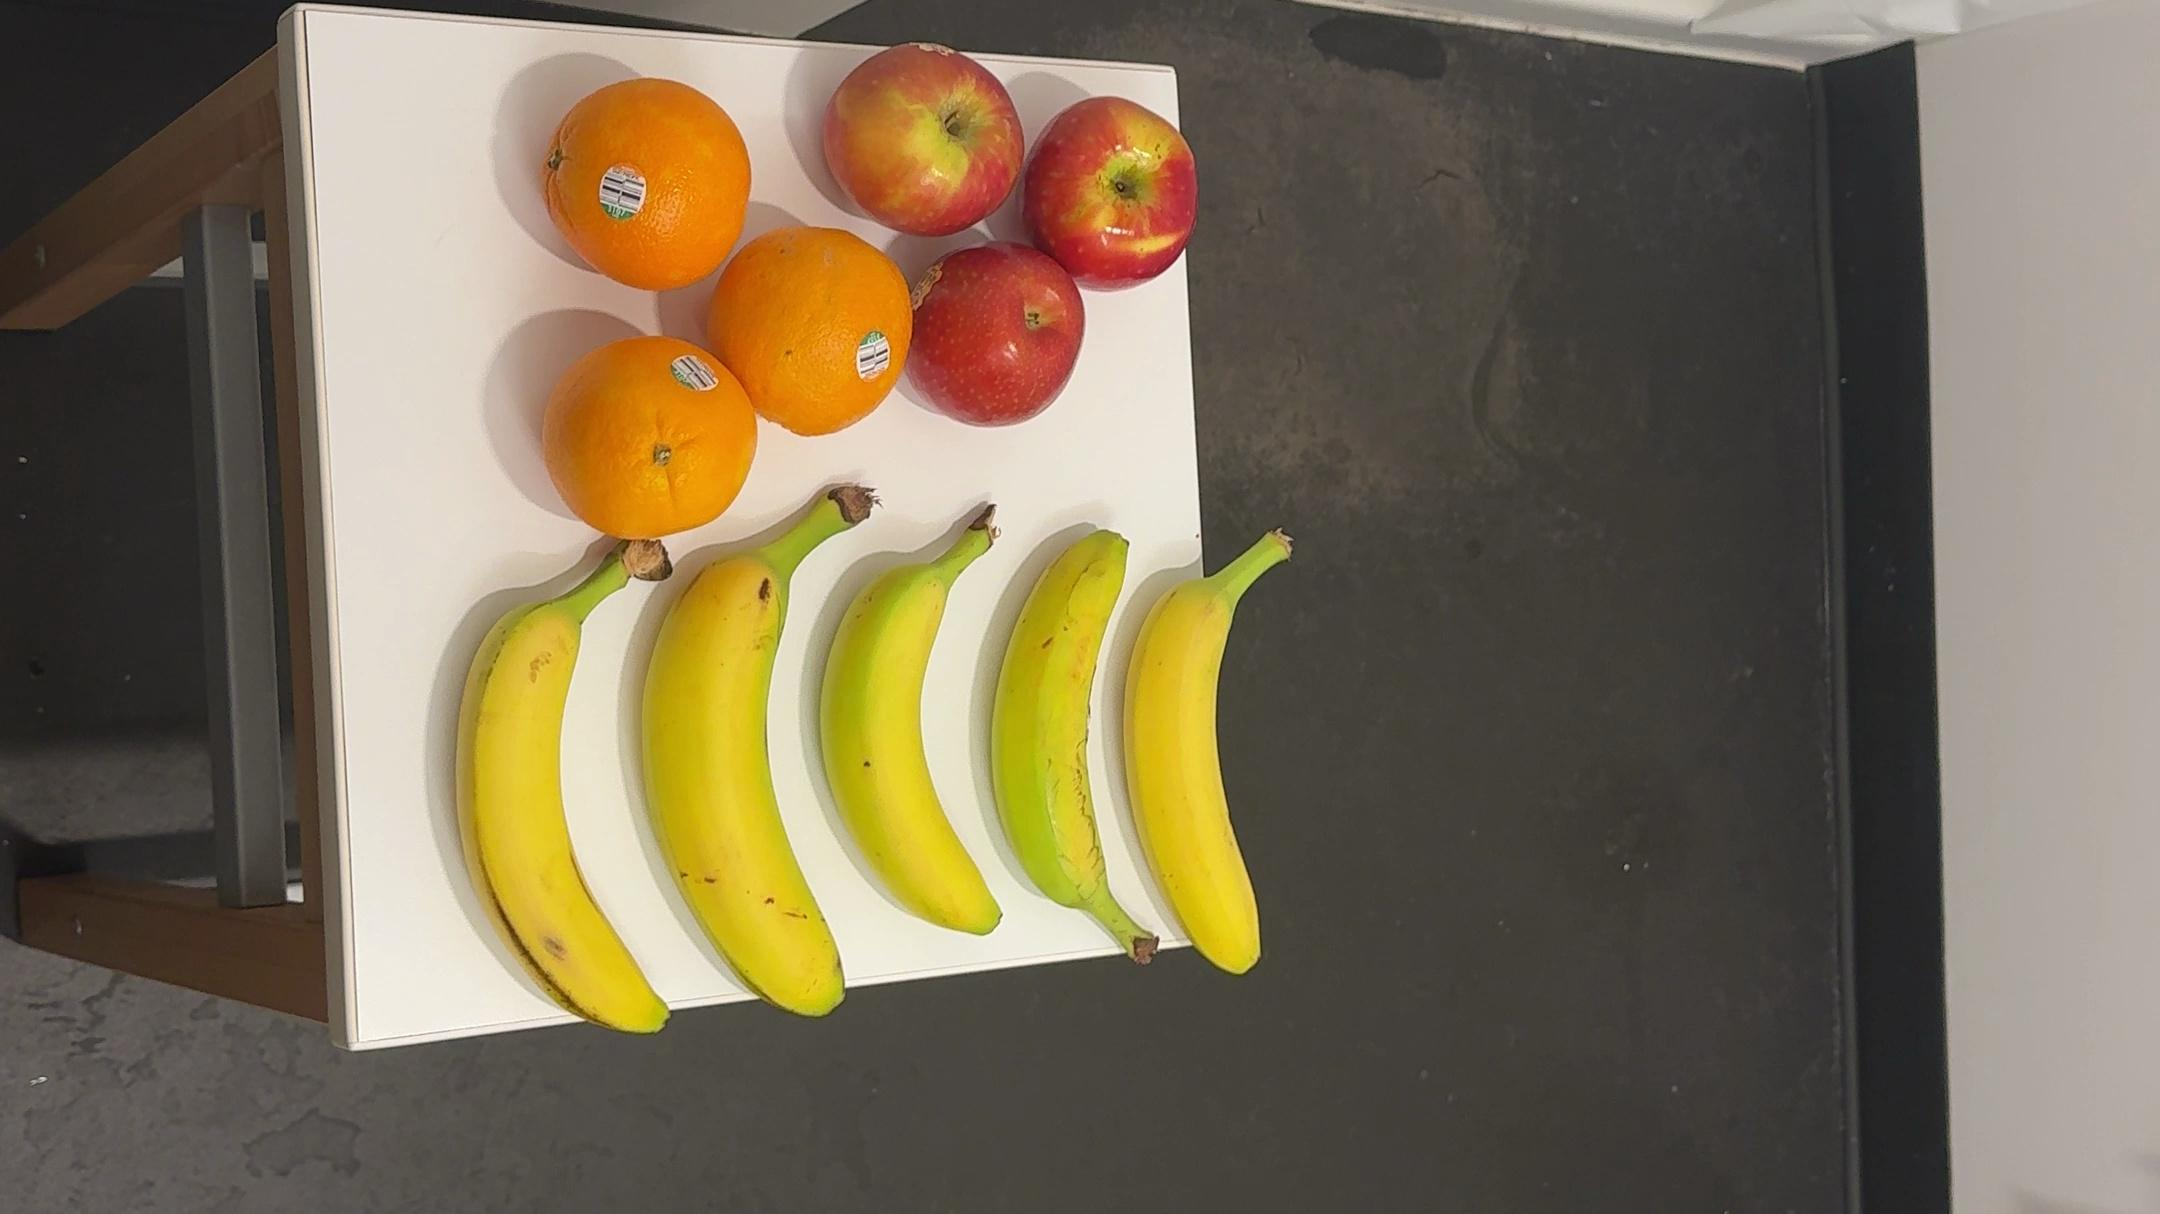apple: (1018, 85, 1212, 297), (900, 226, 1089, 436), (820, 39, 1015, 239)
banana: (452, 515, 690, 1040), (659, 473, 875, 1030), (825, 487, 1004, 959), (1125, 511, 1297, 997), (1003, 505, 1160, 982)
orange: (550, 306, 760, 573), (533, 56, 749, 297), (725, 209, 908, 451)
